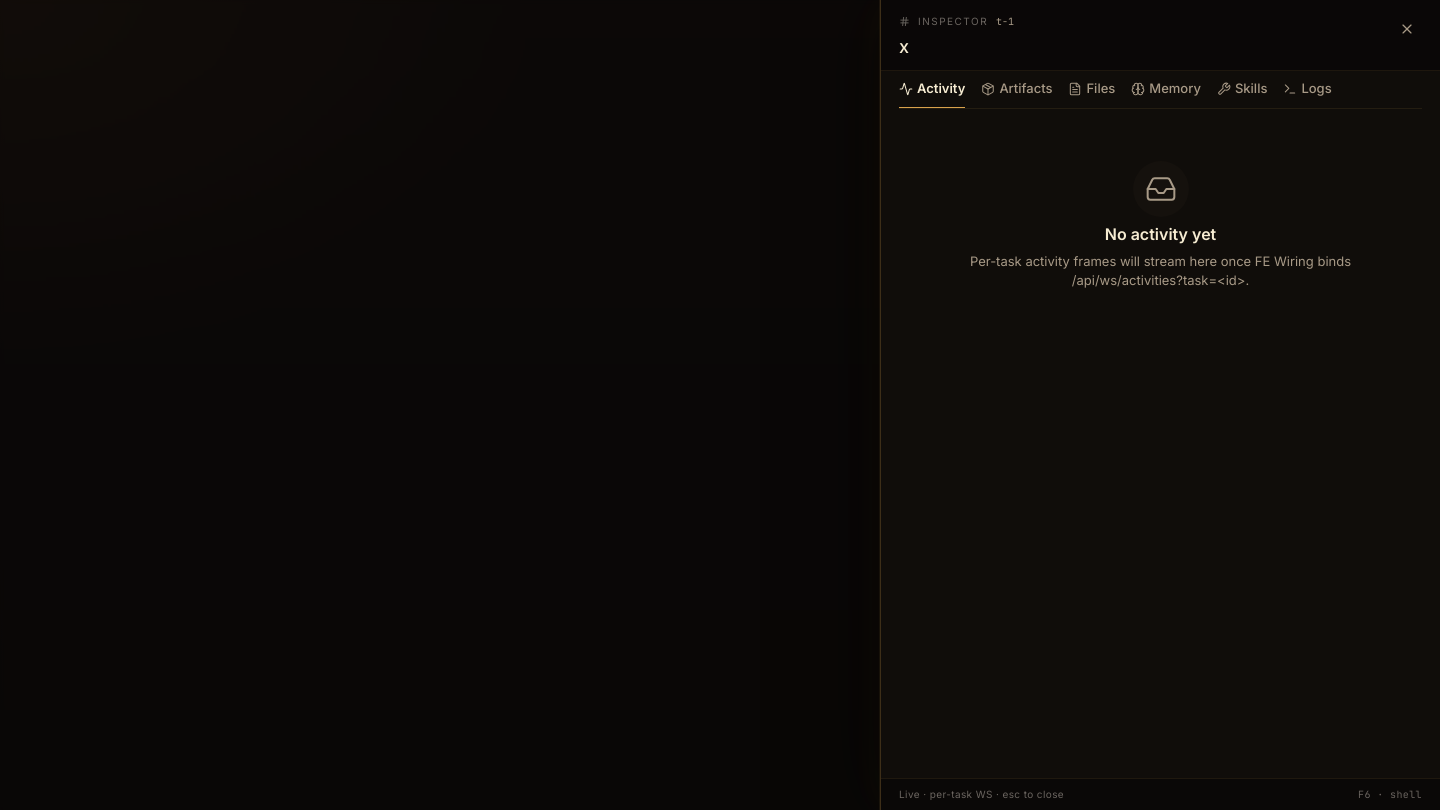
Test case: InspectorDrawer (F6 shell) › switching tabs swaps the empty-state panel
The image size is (1440, 810).
Check: the element with test id "inspector-drawer-panel-activity" is shown, box [881, 108, 1439, 778]
Click the tab "Logs": x=1308, y=90 [1283, 71, 1332, 108]
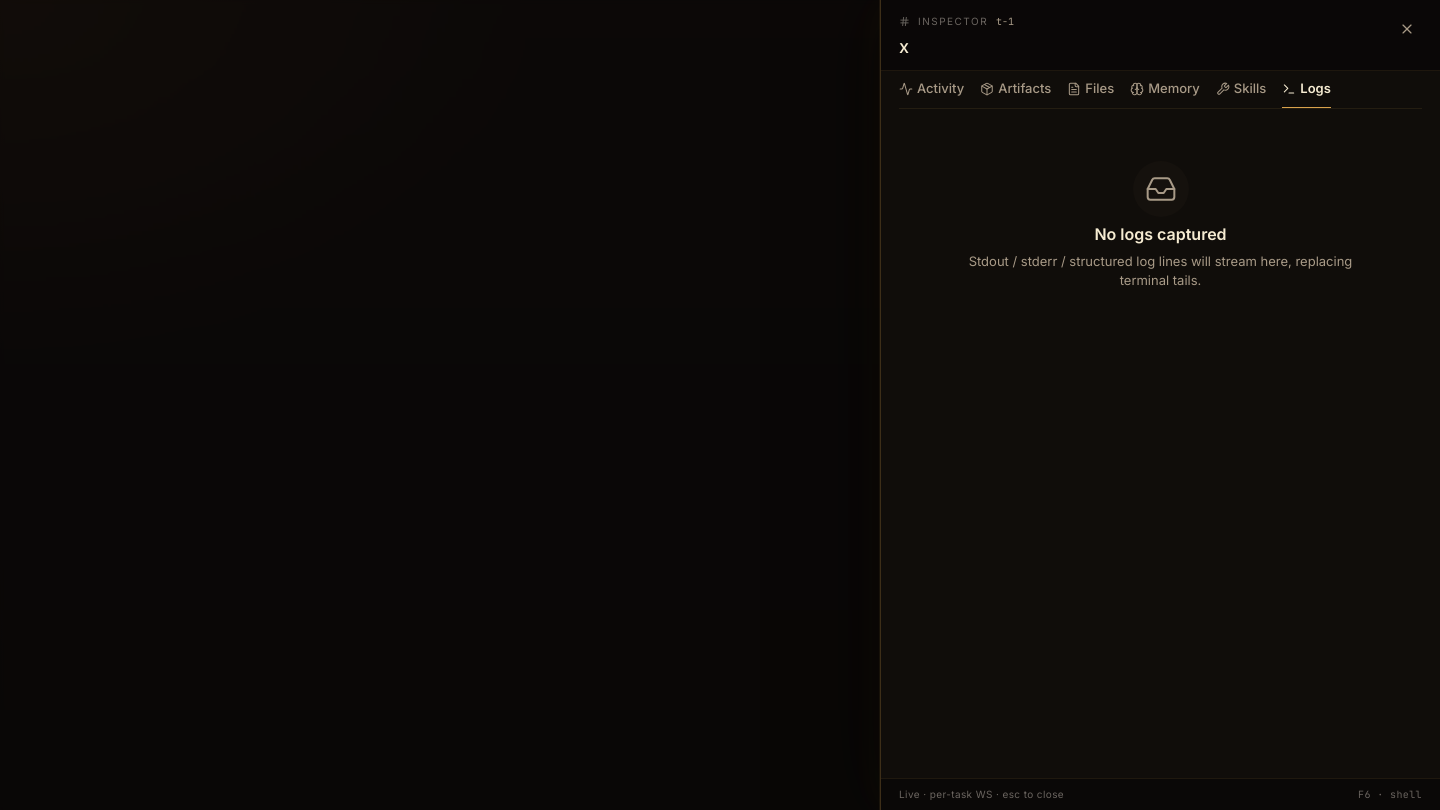
Check: the element with test id "inspector-drawer-panel-logs" is shown, box [881, 108, 1439, 778]
